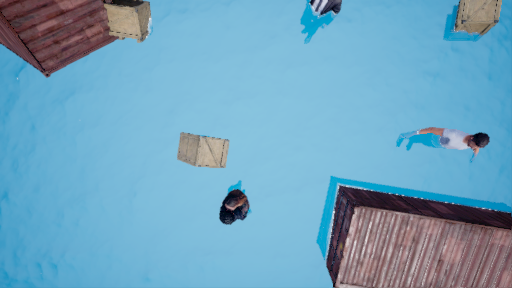person: (398, 123, 488, 169), (222, 179, 267, 228), (297, 2, 341, 41)
